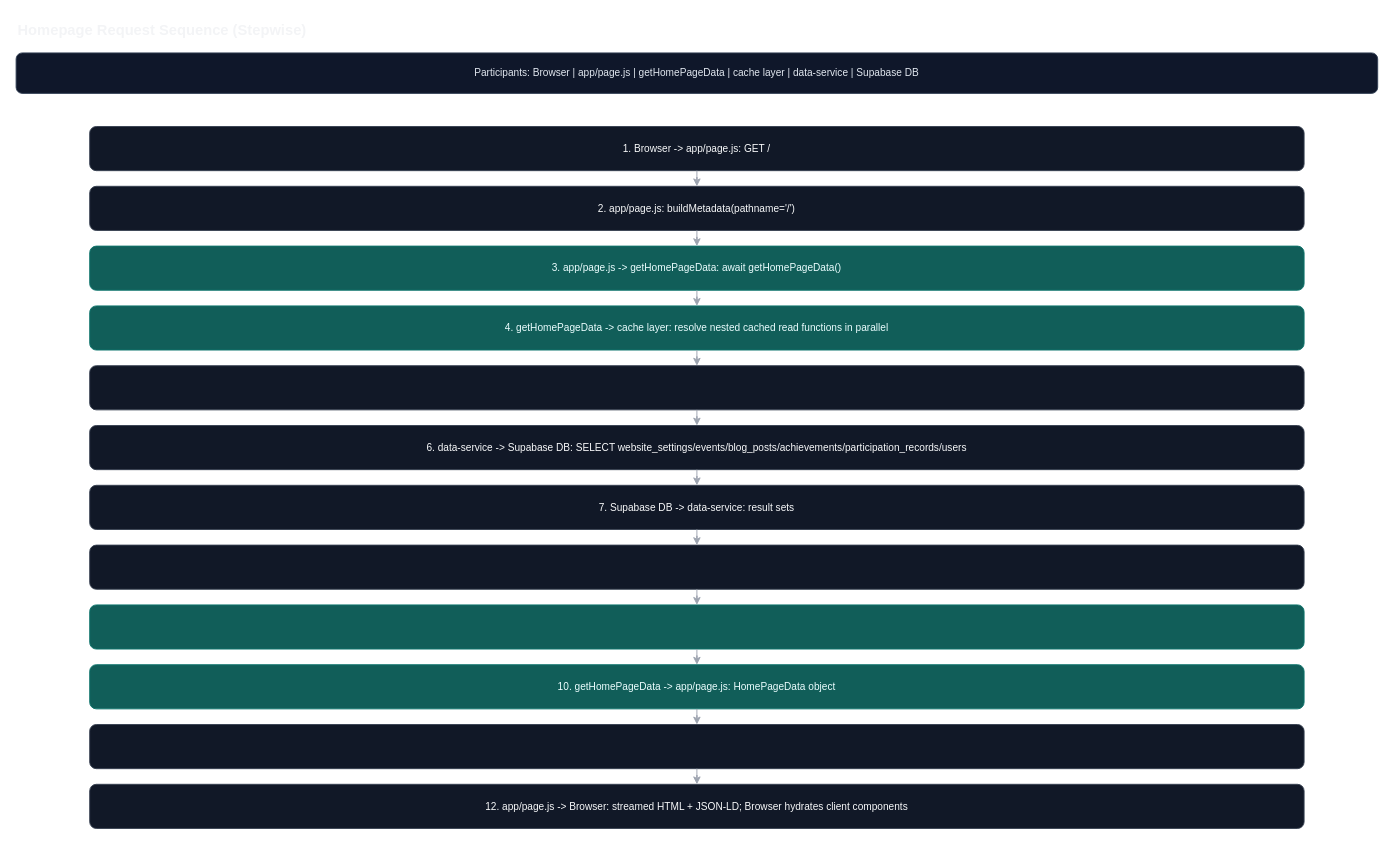
The diagram is 1394 pixels wide and 845 high, and some of its shapes have lost their labels. Here are the shapes that lost their labels. From the top down, the centre of each, then its label:
At point 696,387: "5. cache miss path: cache layer -> data-service".
At point 696,566: "8. data-service -> cache layer: normalized data".
At point 696,626: "9. cache layer -> getHomePageData: cached + fresh merged results".
At point 696,746: "11. app/page.js: render Hero / About / Events / Achievements / Blogs / Join".
